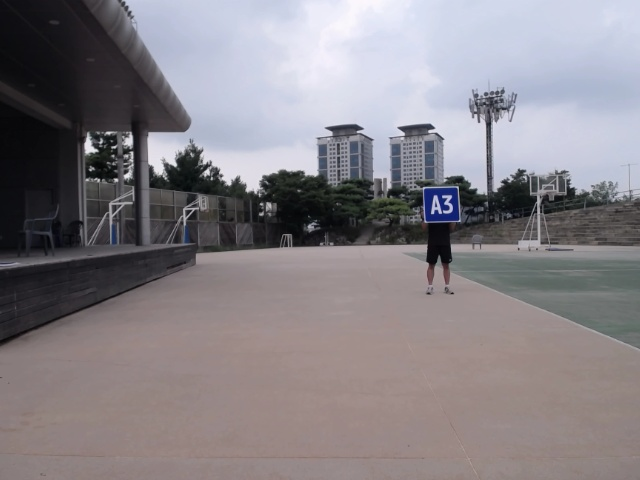delivery_a3: (424, 187, 460, 223)
